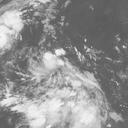cyclone: (30, 50, 93, 105)
